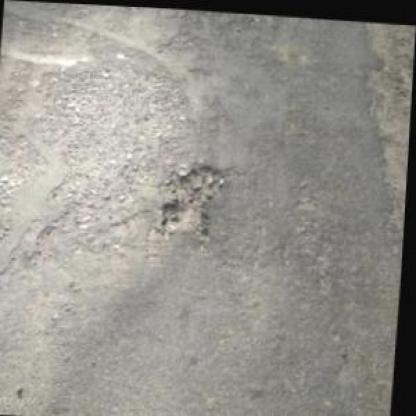pothole: (157, 156, 226, 235)
